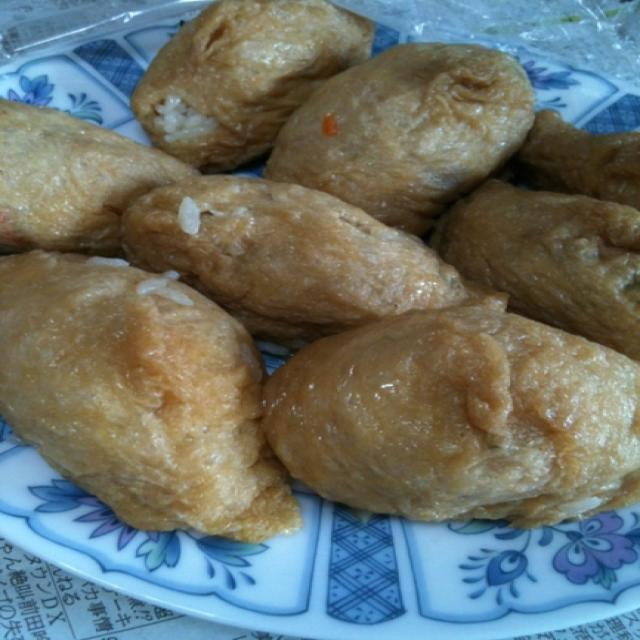寿司卷物: (3, 4, 627, 636)
